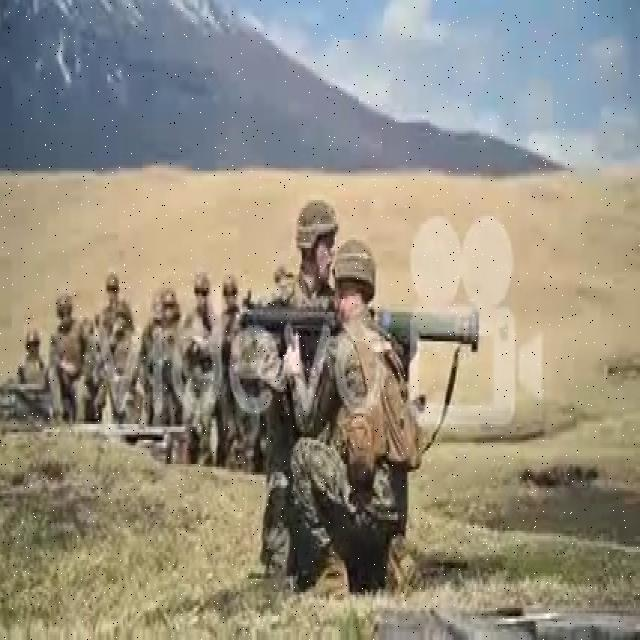bazooka: (244, 295, 484, 361)
